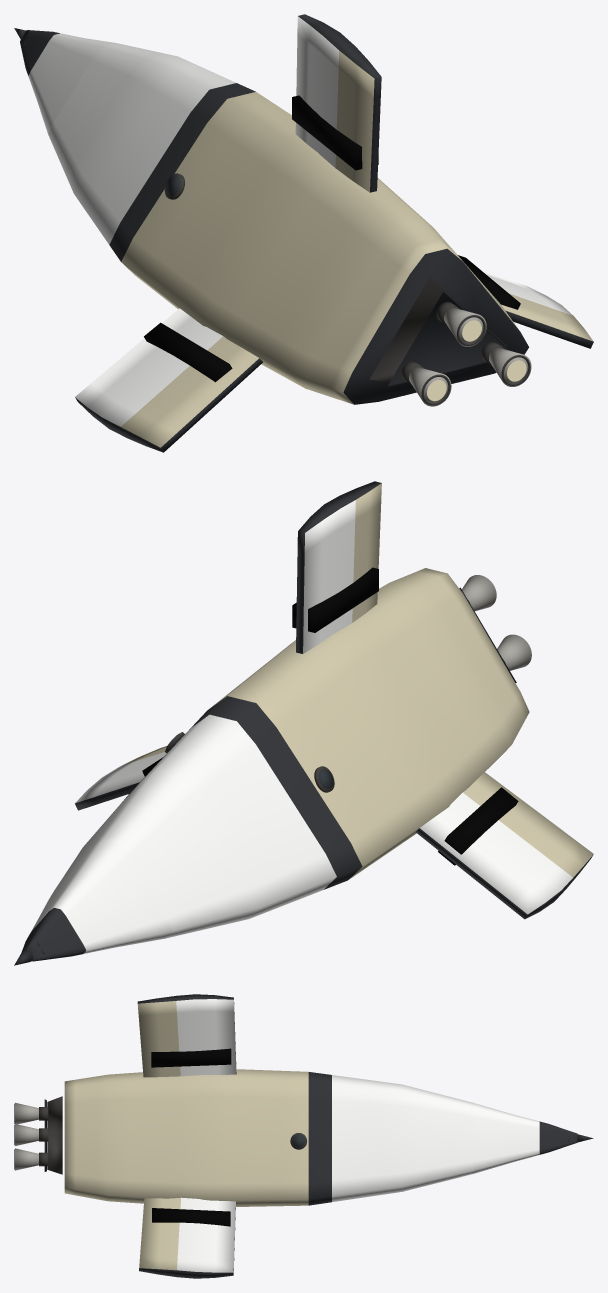
The model's file is Ship_Standard_11.glb.
3 renders of one model, top to bottom at view 1: azimuth 30°, elevation 25°; view 2: azimuth 150°, elevation 25°; view 3: azimuth 270°, elevation 25°, orthographic. The views are drawn at different scales.
Parts seen in each view (by area): view 1: Fuselage_RoundedTriangleTriFoldBody, Wing_LowerLeft_TriFoldCornerBladePaintedMesh, Wing_Dorsal_TriFoldCornerBladePaintedMesh, Nose_RoundedTriangleTaperedForwardSection, EngineBlock_AftTriFoldTrimFrame, Wing_LowerRight_TriFoldCornerBladePaintedMesh, EngineBlock_AftTriangularIntegratedMountPlate, WingRootSocket_LowerLeft_IntegratedEmbeddedShoulder, WingRootSocket_Dorsal_IntegratedEmbeddedShoulder, EngineEmitter, EngineBell_Dorsal_BurnishedNozzle, EngineBell_LowerLeft_BurnishedNozzle (+2 smaller); view 2: Fuselage_RoundedTriangleTriFoldBody, Wing_LowerLeft_TriFoldCornerBladePaintedMesh, Nose_RoundedTriangleTaperedForwardSection, Wing_Dorsal_TriFoldCornerBladePaintedMesh, WingRootSocket_Dorsal_IntegratedEmbeddedShoulder, Wing_LowerRight_TriFoldCornerBladePaintedMesh, WingRootSocket_LowerLeft_IntegratedEmbeddedShoulder, EngineBell_LowerLeft_BurnishedNozzle, EngineBell_Dorsal_BurnishedNozzle; view 3: Fuselage_RoundedTriangleTriFoldBody, Wing_Dorsal_TriFoldCornerBladePaintedMesh, Wing_LowerRight_TriFoldCornerBladePaintedMesh, Nose_RoundedTriangleTaperedForwardSection, WingRootSocket_Dorsal_IntegratedEmbeddedShoulder, WingRootSocket_LowerRight_IntegratedEmbeddedShoulder, EngineBlock_AftTriangularIntegratedMountPlate, EngineBell_LowerRight_BurnishedNozzle, EngineBell_Dorsal_BurnishedNozzle, EngineBell_LowerLeft_BurnishedNozzle.
Boxes of the visible parts, x1=… form: Fuselage_RoundedTriangleTriFoldBody: x1=48, y1=43, x2=528, y2=404; Wing_LowerLeft_TriFoldCornerBladePaintedMesh: x1=75, y1=308, x2=262, y2=452; Wing_Dorsal_TriFoldCornerBladePaintedMesh: x1=295, y1=14, x2=381, y2=192; Nose_RoundedTriangleTaperedForwardSection: x1=20, y1=30, x2=116, y2=133; EngineBlock_AftTriFoldTrimFrame: x1=388, y1=291, x2=510, y2=386; Wing_LowerRight_TriFoldCornerBladePaintedMesh: x1=482, y1=271, x2=593, y2=348; EngineBlock_AftTriangularIntegratedMountPlate: x1=369, y1=277, x2=506, y2=382; WingRootSocket_LowerLeft_IntegratedEmbeddedShoulder: x1=144, y1=322, x2=232, y2=382; WingRootSocket_Dorsal_IntegratedEmbeddedShoulder: x1=292, y1=95, x2=378, y2=170; EngineEmitter: x1=427, y1=320, x2=526, y2=401; EngineBell_Dorsal_BurnishedNozzle: x1=444, y1=308, x2=486, y2=346; EngineBell_LowerLeft_BurnishedNozzle: x1=409, y1=367, x2=451, y2=406; Fuselage_RoundedTriangleTriFoldBody: x1=55, y1=568, x2=529, y2=938; Wing_LowerLeft_TriFoldCornerBladePaintedMesh: x1=416, y1=772, x2=593, y2=919; Nose_RoundedTriangleTaperedForwardSection: x1=21, y1=840, x2=172, y2=961; Wing_Dorsal_TriFoldCornerBladePaintedMesh: x1=296, y1=481, x2=381, y2=653; WingRootSocket_Dorsal_IntegratedEmbeddedShoulder: x1=292, y1=567, x2=378, y2=632; Wing_LowerRight_TriFoldCornerBladePaintedMesh: x1=75, y1=746, x2=166, y2=810; WingRootSocket_LowerLeft_IntegratedEmbeddedShoulder: x1=438, y1=787, x2=518, y2=865; EngineBell_LowerLeft_BurnishedNozzle: x1=497, y1=634, x2=531, y2=670; EngineBell_Dorsal_BurnishedNozzle: x1=462, y1=575, x2=496, y2=611; Fuselage_RoundedTriangleTriFoldBody: x1=64, y1=1069, x2=473, y2=1206; Wing_Dorsal_TriFoldCornerBladePaintedMesh: x1=137, y1=994, x2=236, y2=1077; Wing_LowerRight_TriFoldCornerBladePaintedMesh: x1=139, y1=1197, x2=235, y2=1278; Nose_RoundedTriangleTaperedForwardSection: x1=473, y1=1103, x2=577, y2=1173; WingRootSocket_Dorsal_IntegratedEmbeddedShoulder: x1=151, y1=1048, x2=231, y2=1067; WingRootSocket_LowerRight_IntegratedEmbeddedShoulder: x1=152, y1=1208, x2=230, y2=1226; EngineBlock_AftTriangularIntegratedMountPlate: x1=47, y1=1096, x2=62, y2=1174; EngineBell_LowerRight_BurnishedNozzle: x1=15, y1=1148, x2=38, y2=1170; EngineBell_Dorsal_BurnishedNozzle: x1=15, y1=1102, x2=38, y2=1124; EngineBell_LowerLeft_BurnishedNozzle: x1=15, y1=1124, x2=38, y2=1145.
Size of the model in its own units: 4.32 by 3.07 by 7.54.
